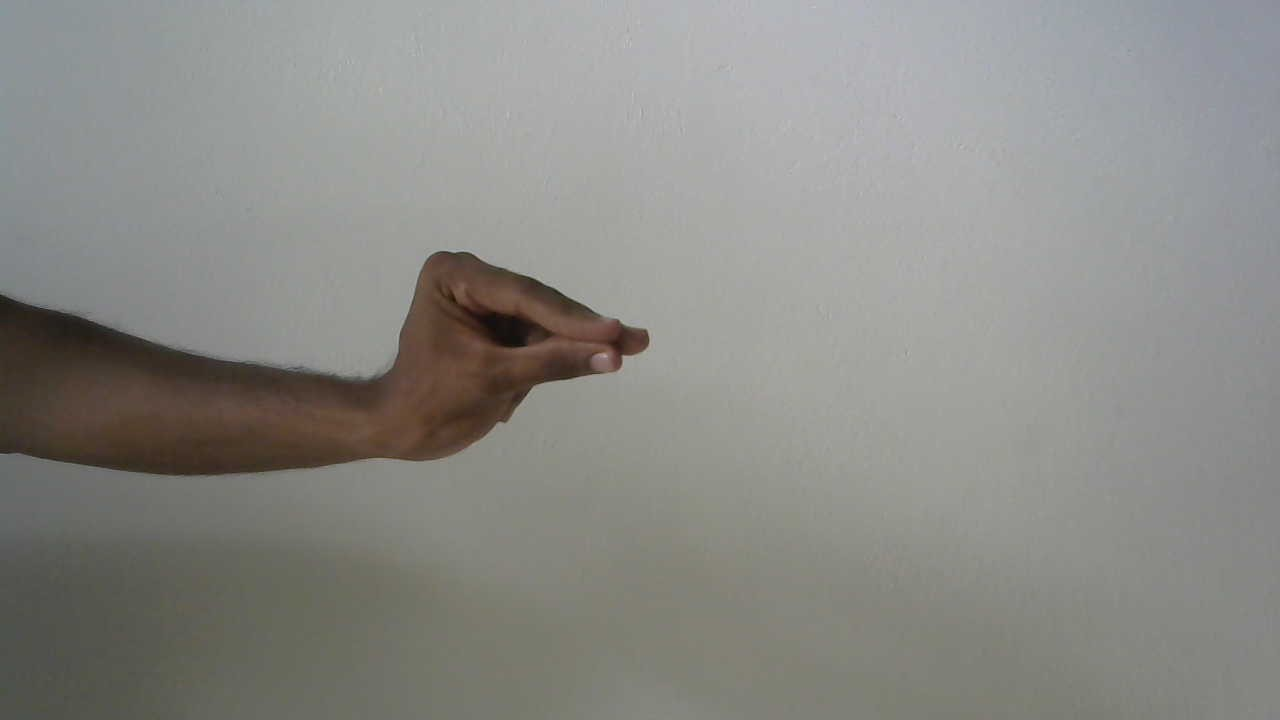no: (363, 230, 667, 477)
